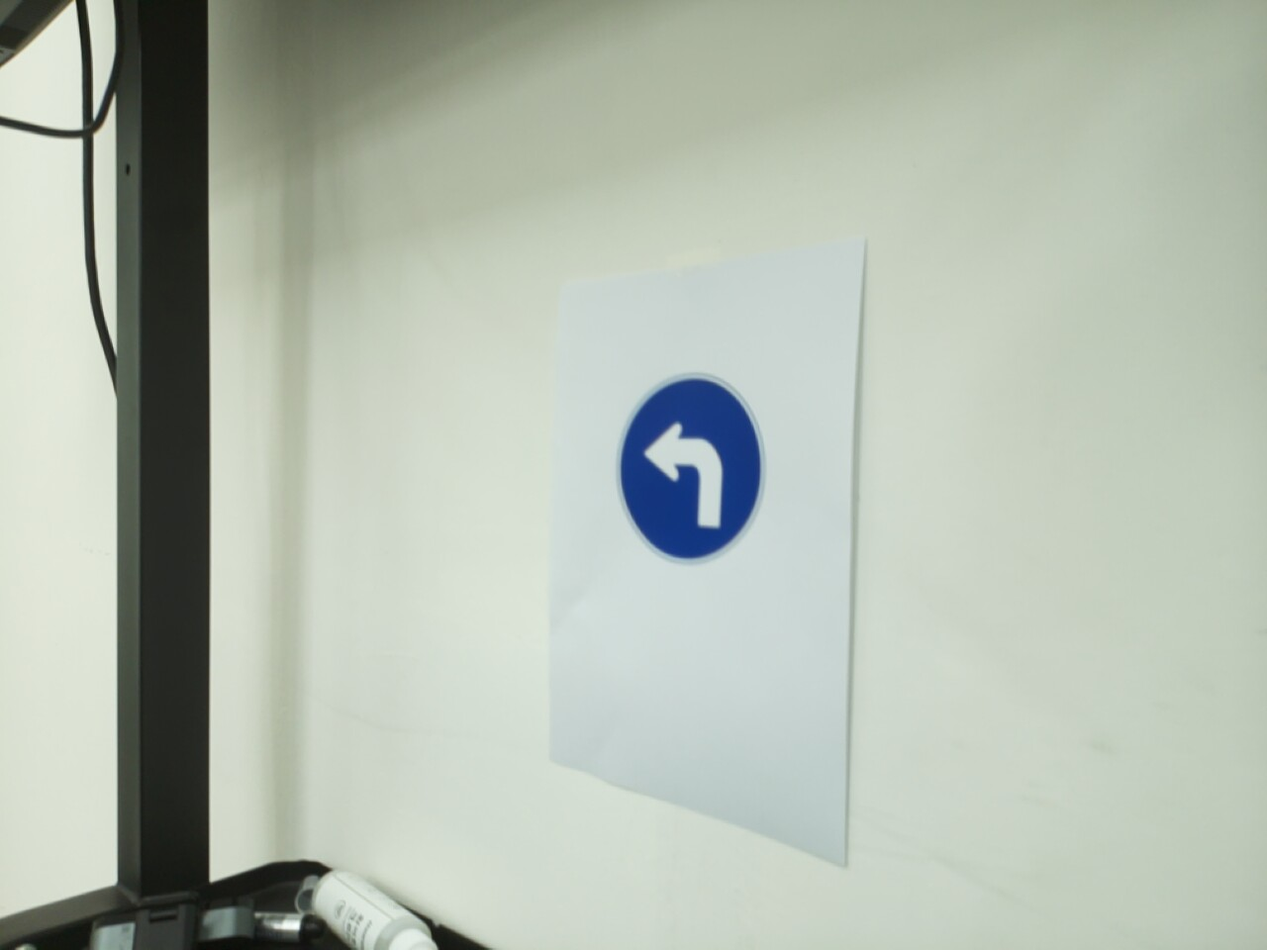left_turn: (614, 371, 768, 566)
